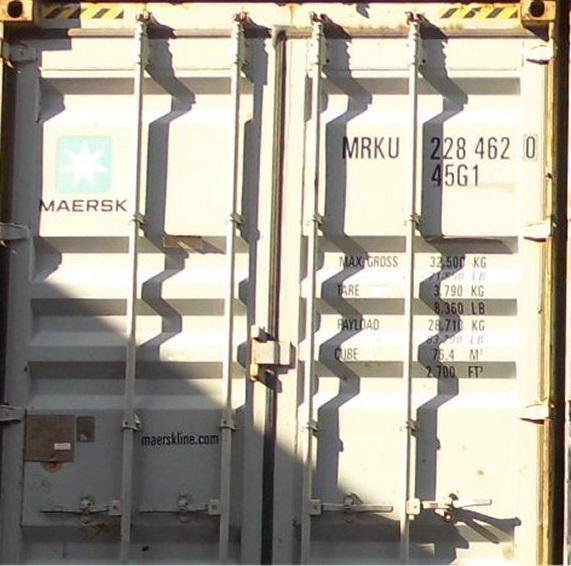container_door: (5, 2, 552, 560)
